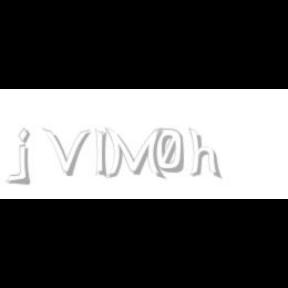0: (156, 128, 188, 174)
M: (104, 128, 164, 180)
V: (42, 128, 90, 176)
h: (189, 128, 224, 180)
j: (16, 128, 44, 186)
l: (95, 128, 111, 180)
